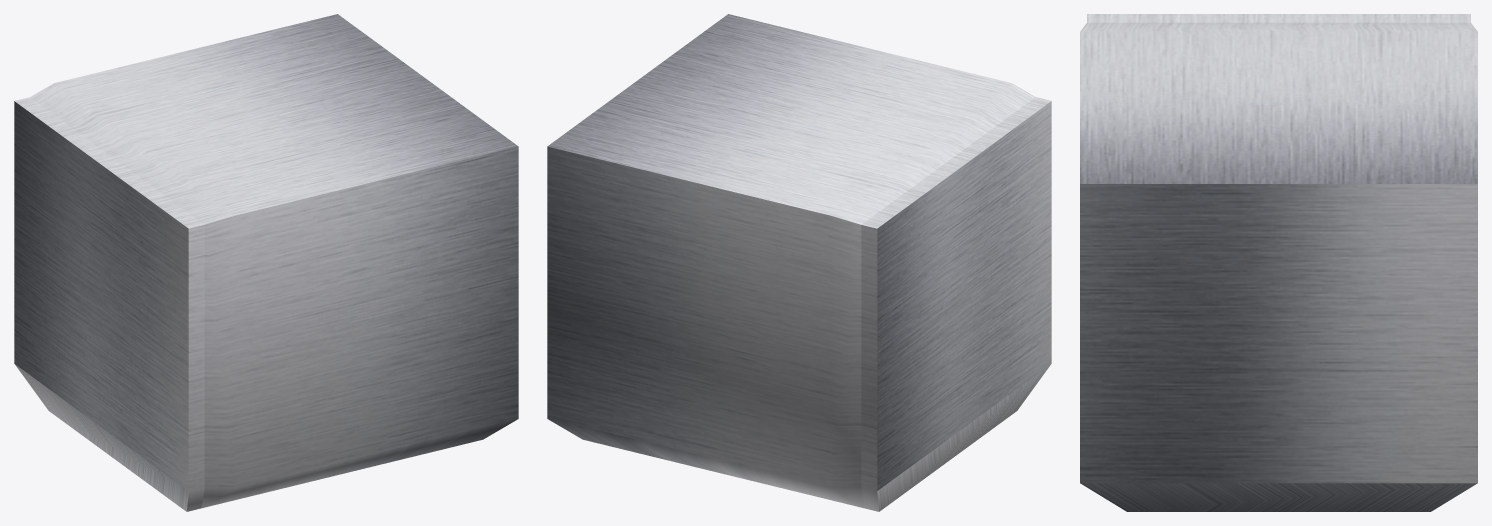
The model's file is dishwasher.fbx.
The picture shows the model from 3 angles, left to right: view 1: azimuth 30°, elevation 25°; view 2: azimuth 150°, elevation 25°; view 3: azimuth 270°, elevation 25°; orthographic projection. The views are drawn at different scales.
Parts seen in each view (by area): view 1: pCube1; view 2: pCube1; view 3: pCube1.
Part boxes in pixels (<box>): pCube1: <box>14,14,518,511</box>; pCube1: <box>547,14,1051,511</box>; pCube1: <box>1080,14,1477,511</box>.
Size of the model in its own units: 1.08 by 0.9617 by 1.03.
1 material, 1 textured.
